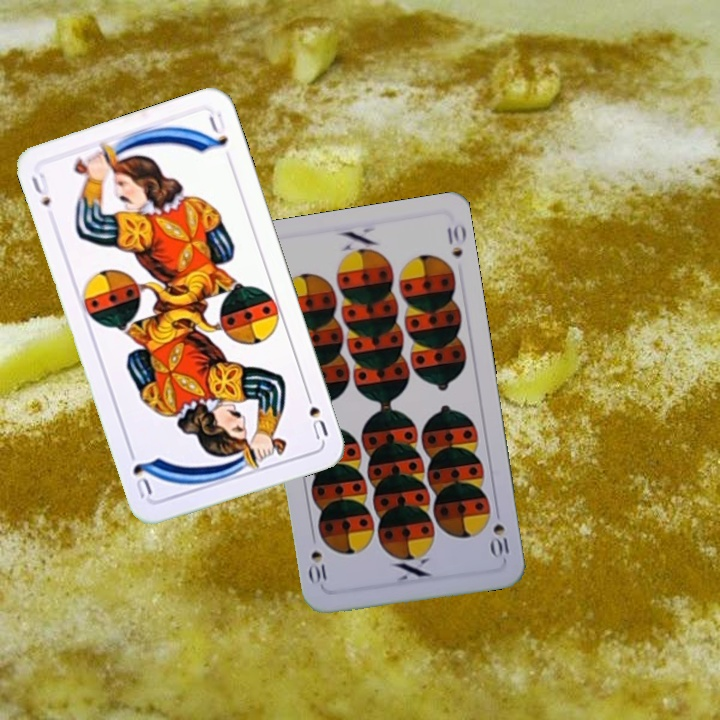S10: (487, 503, 512, 562)
SU: (301, 386, 331, 442), (27, 169, 53, 210)
